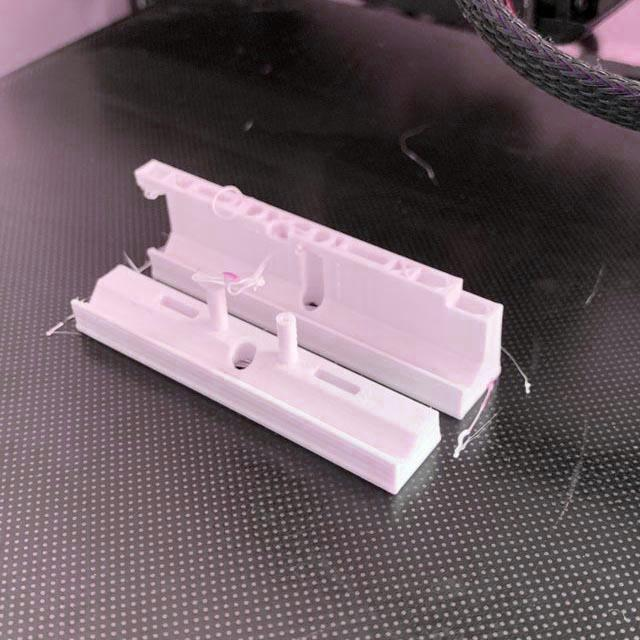Spaghetti: (212, 183, 256, 221), (193, 272, 264, 294), (124, 249, 152, 276)
